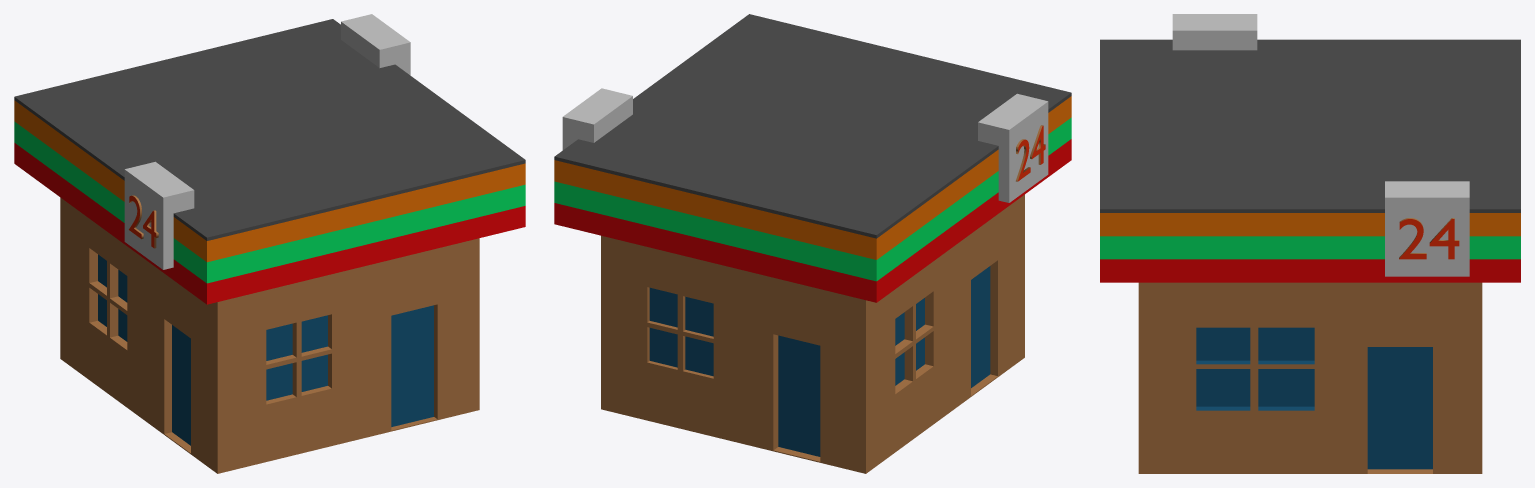
Rendered from conveni.glb.
3 renders of one model, left to right at view 1: azimuth 30°, elevation 25°; view 2: azimuth 150°, elevation 25°; view 3: azimuth 270°, elevation 25°, orthographic. The views are drawn at different scales.
Parts seen in each view (by area): view 1: Cube.006; view 2: Cube.006; view 3: Cube.006.
Part boxes in pixels (x1,y1,x2,y2): Cube.006: (14,14,525,473); Cube.006: (554,14,1071,473); Cube.006: (1100,14,1520,473).
Bounding box in the file's own units: 2.78 × 2.09 × 2.66.
